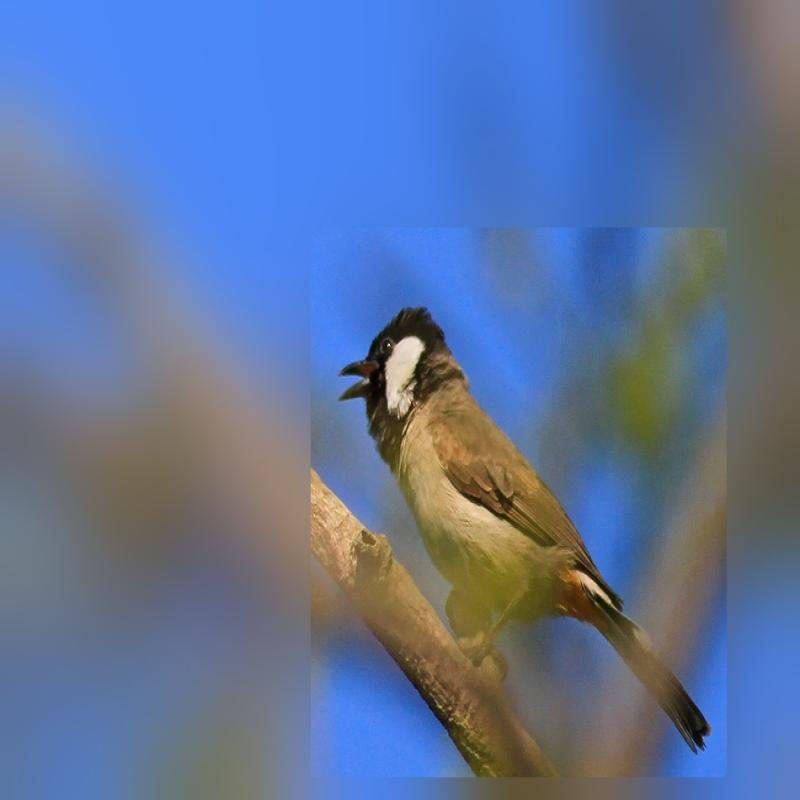white-eared bulbul: (334, 292, 714, 764)
